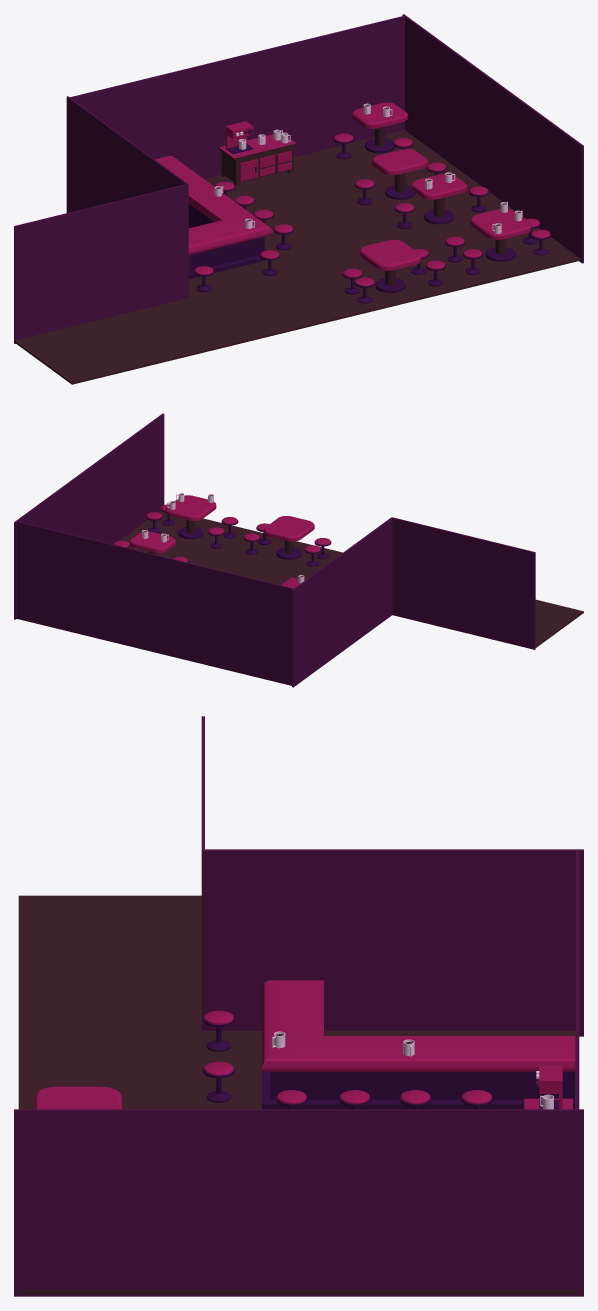
The model's file is CafeScene.fbx.
3 views of the same model, one above another, from view 1: azimuth 30°, elevation 25°; view 2: azimuth 150°, elevation 25°; view 3: azimuth 270°, elevation 25° (orthographic). The views are drawn at different scales.
Visible parts, largest first — view 1: floor, wall, wall3, wall2, wall1, bigeatingtable2 (×4), coffeebar:counter1, appliance_table1:appliance_table1, coffeebar:counter2, mytable:bigeatingtable2; view 2: wall, wall2, wall1, wall3, floor, bigeatingtable2 (×2), mytable:bigeatingtable2; view 3: wall3, wall1, floor, coffeebar:counter1, coffeebar:counter2, coffeebar:counter3, mytable:bigeatingtable2, wall, wall2, chairpole2, chairpole.
Boxes of the visible parts, box(x1,y1,x2,y2) form: floor: box(14, 130, 580, 384); wall: box(69, 15, 405, 178); wall3: box(402, 14, 583, 263); wall2: box(14, 184, 188, 343); wall1: box(66, 96, 187, 212); bigeatingtable2 (×4): box(352, 102, 531, 239); coffeebar:counter1: box(155, 156, 272, 254); appliance_table1:appliance_table1: box(219, 132, 296, 186); coffeebar:counter2: box(188, 203, 264, 272); mytable:bigeatingtable2: box(359, 239, 421, 270); wall: box(16, 521, 294, 685); wall2: box(391, 517, 535, 649); wall1: box(292, 517, 392, 687); wall3: box(14, 413, 164, 619); floor: box(119, 510, 583, 647); bigeatingtable2 (×2): box(129, 495, 216, 553); mytable:bigeatingtable2: box(263, 516, 314, 541); wall3: box(14, 1109, 583, 1296); wall1: box(202, 849, 583, 1036); floor: box(18, 895, 578, 1293); coffeebar:counter1: box(262, 980, 575, 1072); coffeebar:counter2: box(270, 992, 574, 1099); coffeebar:counter3: box(262, 1070, 575, 1109); mytable:bigeatingtable2: box(34, 1086, 122, 1109); wall: box(576, 850, 579, 1109); wall2: box(201, 716, 204, 1030); chairpole2: box(202, 1010, 234, 1051); chairpole: box(202, 1061, 234, 1102).
Size of the model in its own units: 62.69 by 13.76 by 38.21.
9 materials, 9 textured.
